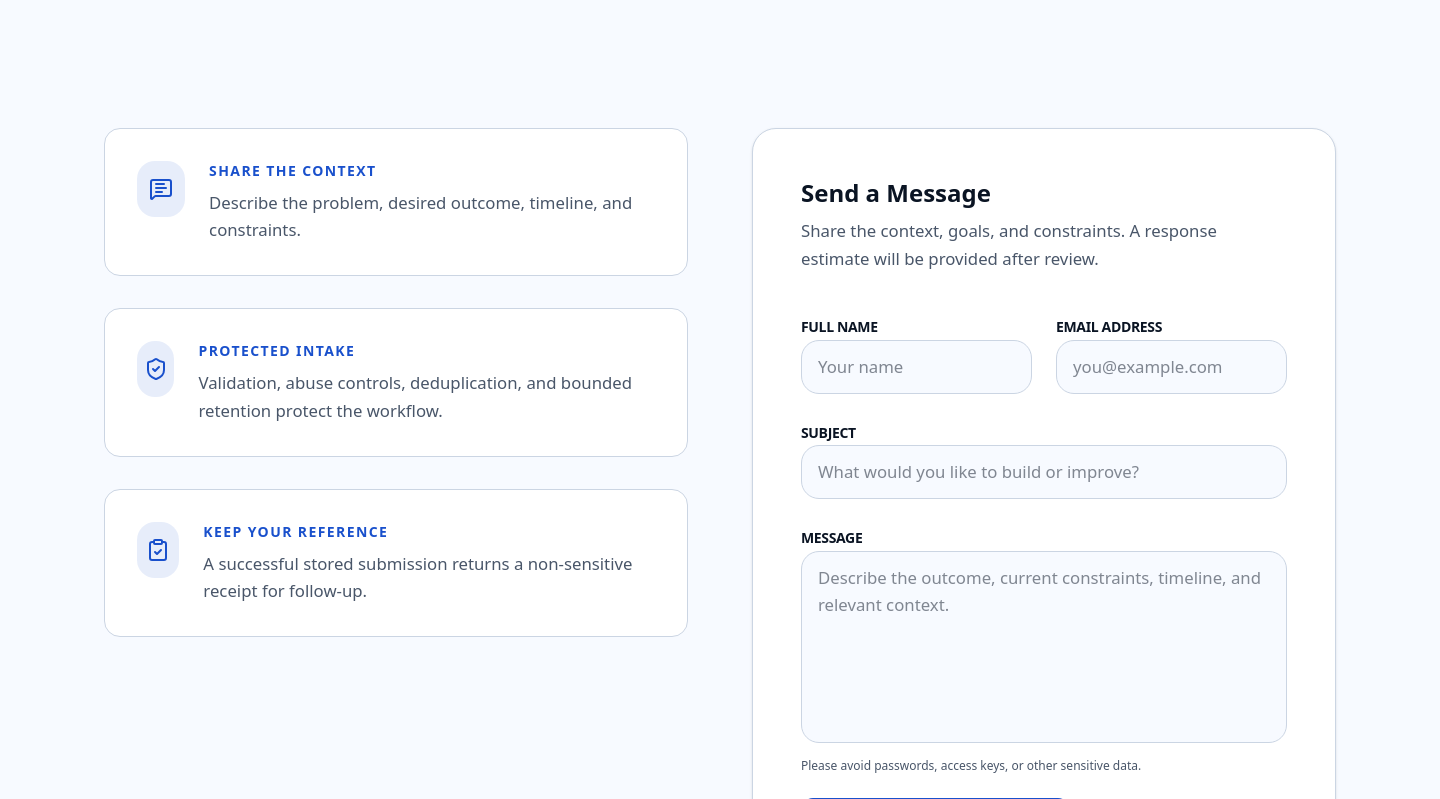
Test case: ContactContentSection › keeps retry available after a timeout
The width and height of the screenshot is (1440, 799).
Step 1. Type "Ada Lovelace" into the field labelled "Full Name" → (916, 367), box [801, 340, 1032, 394]
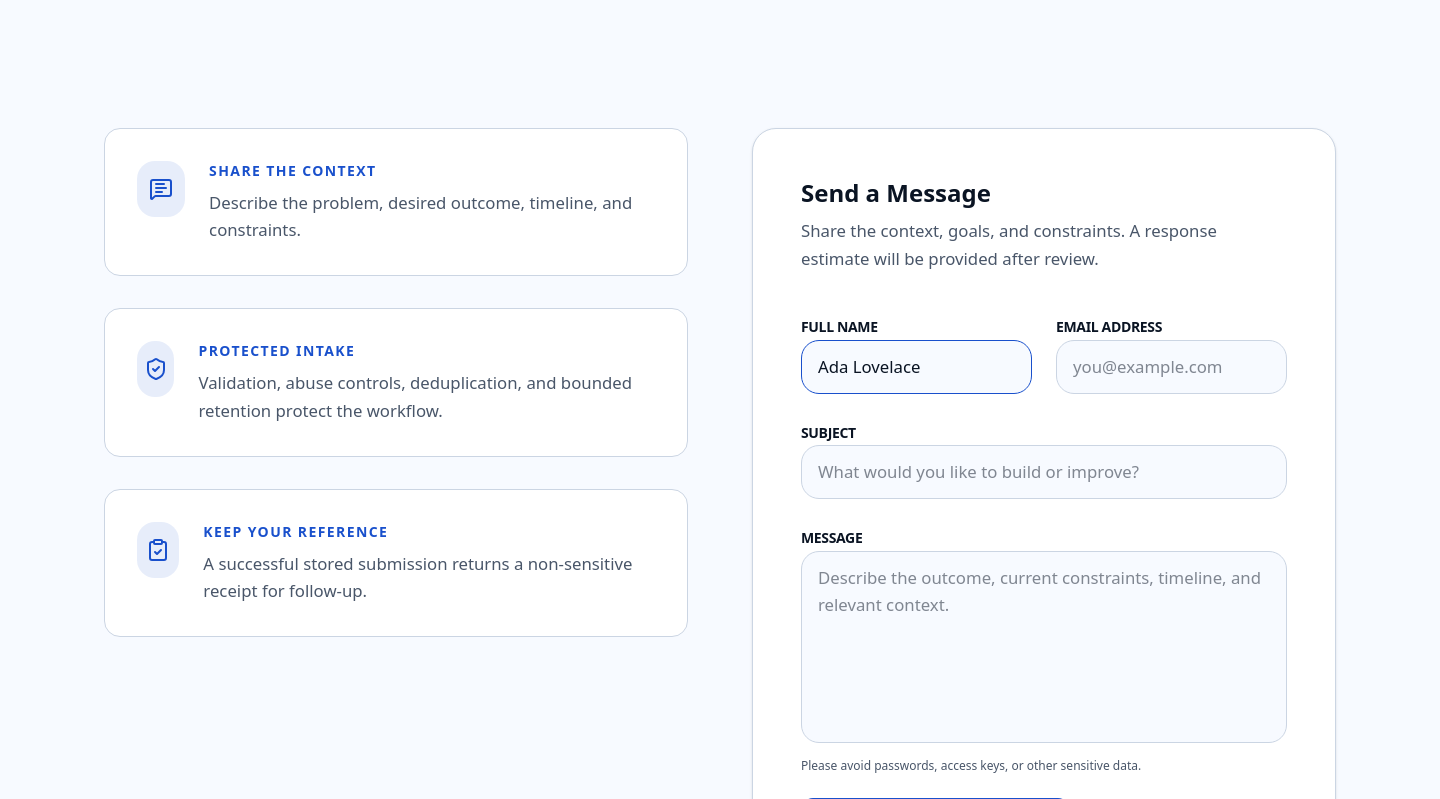
Step 2. Type "ada@example.com" into the field labelled "Email Address" → (1172, 367), box [1056, 340, 1287, 394]
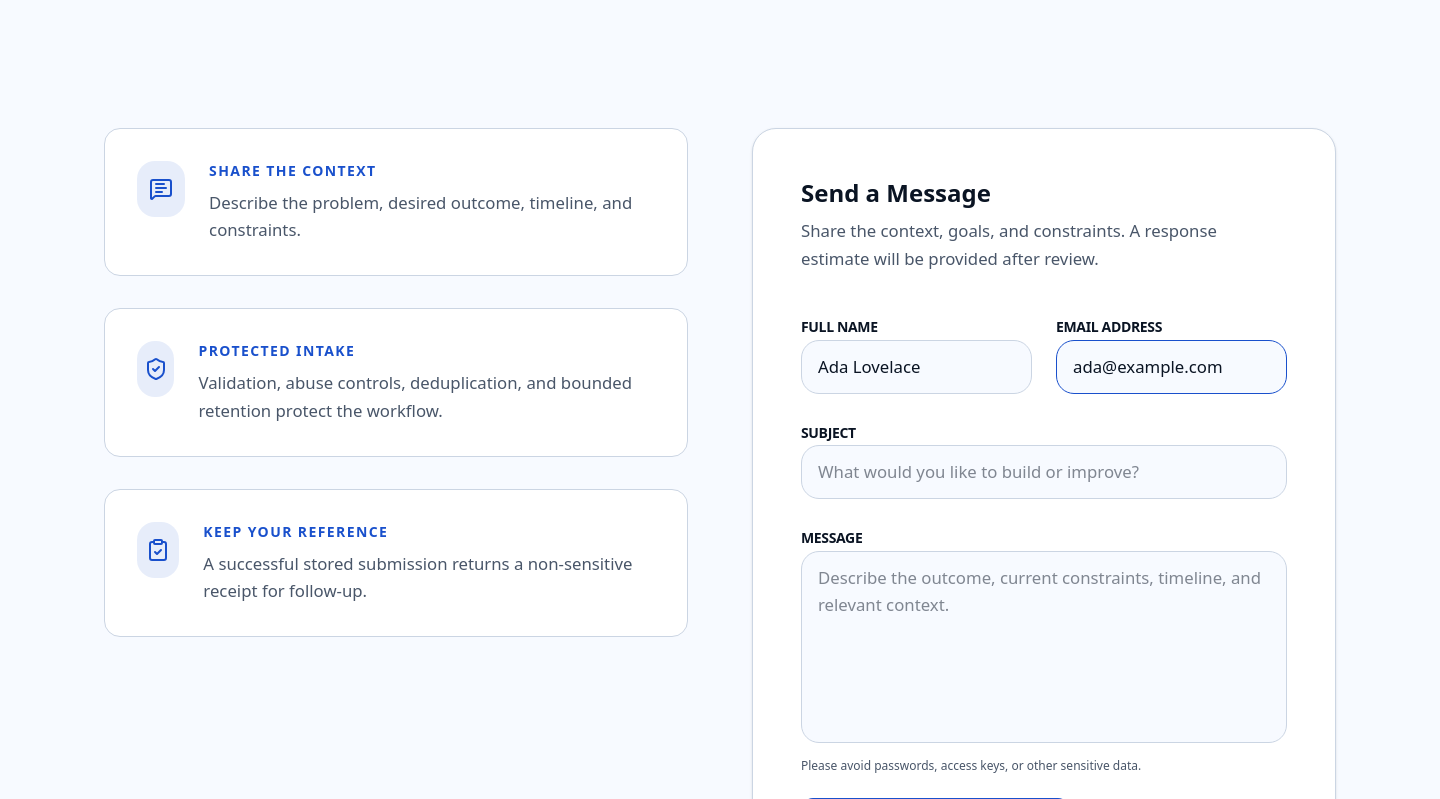
Step 3. Type "Timeout retry" into the field labelled "Subject" → (1044, 472), box [801, 445, 1287, 499]
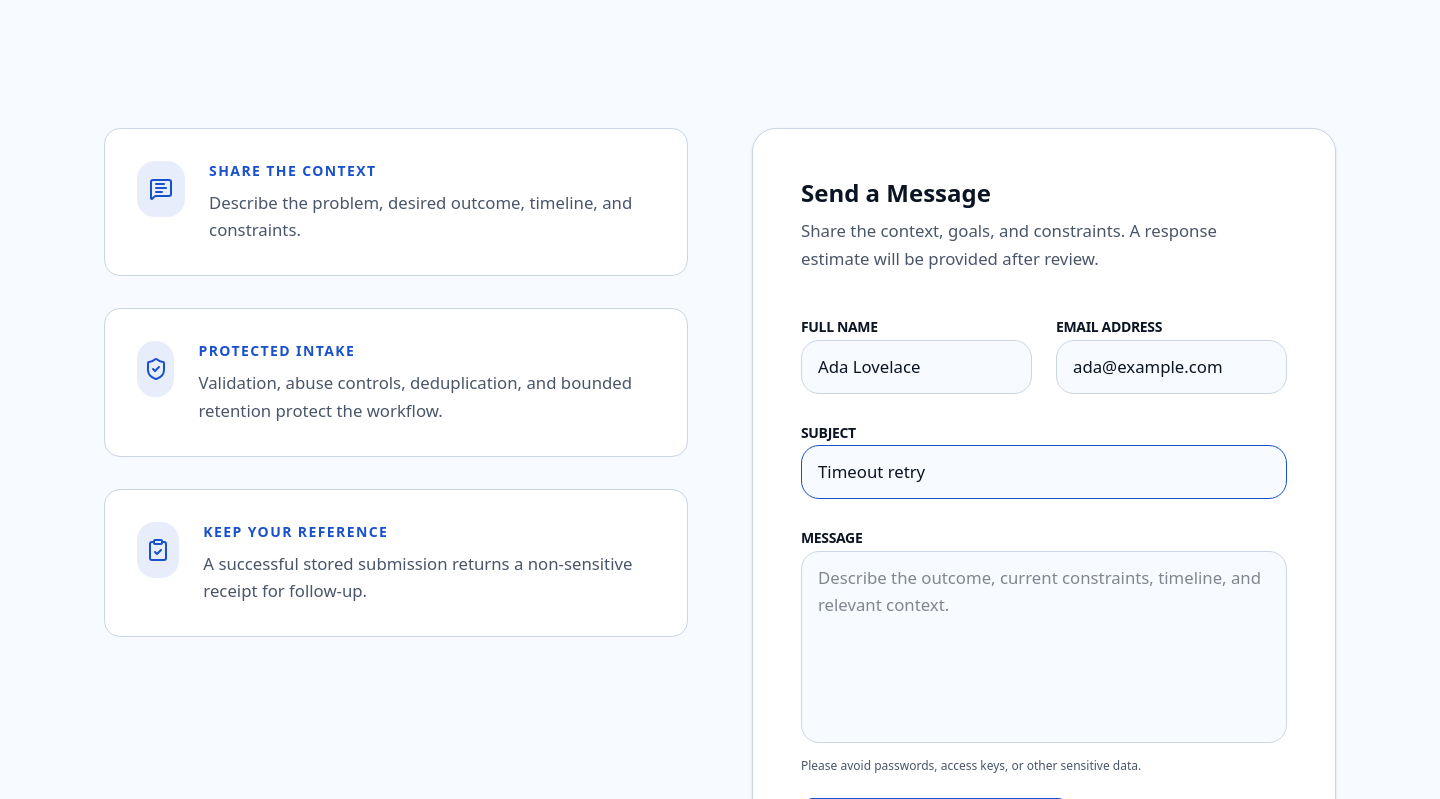
Step 4. Type "This message should remain available for a safe retry." into the text box labelled "Message" → (1044, 647), box [801, 551, 1287, 742]
(page scrolled)
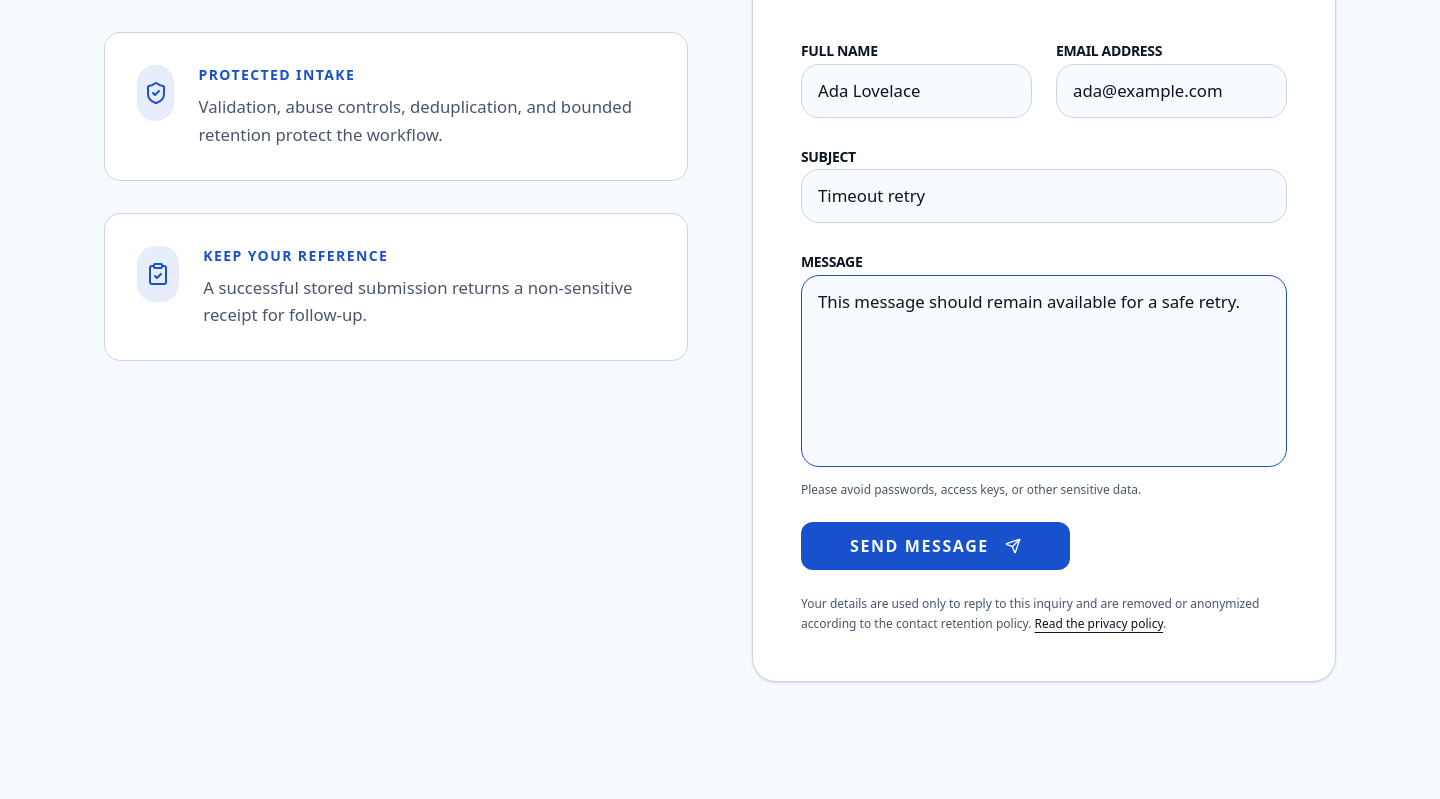
Step 5. Click the button "Send Message" → (935, 546), box [801, 522, 1070, 570]
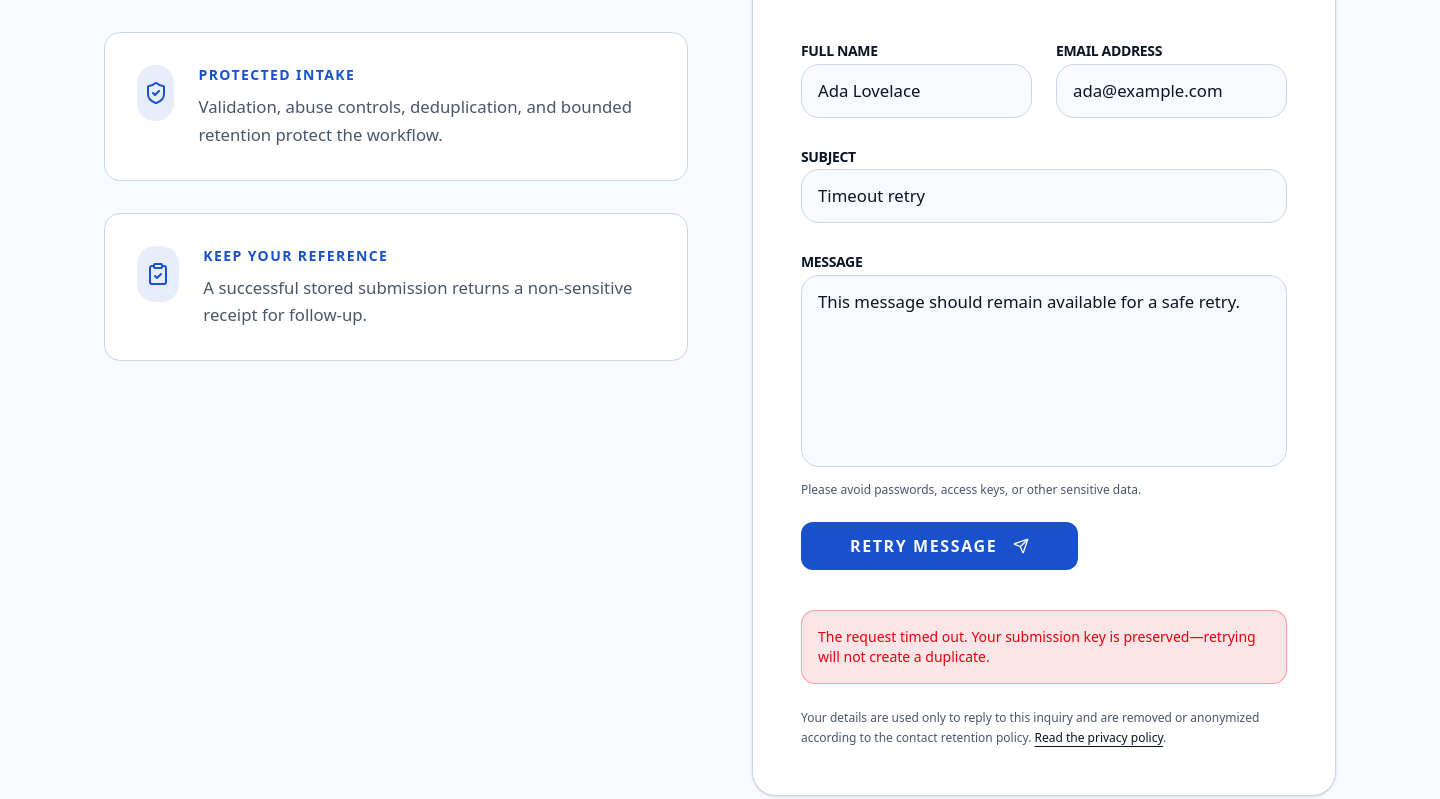
Expected: the button "Retry Message" is enabled, [801, 522, 1078, 570]
Now the message shows "retrying will not create a duplicate", box [818, 627, 1256, 666]
